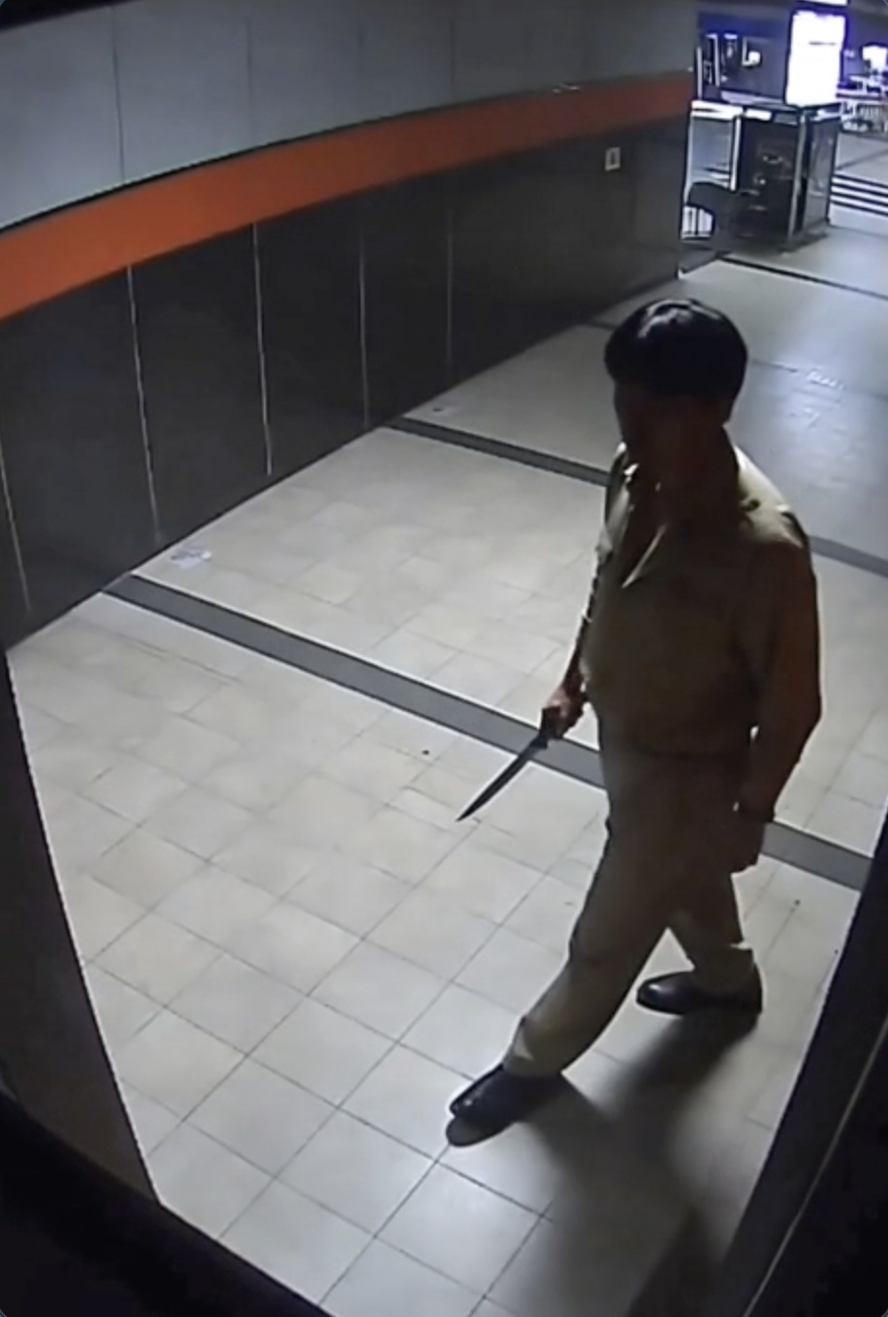knife: (456, 720, 563, 826)
person: (584, 327, 798, 1014)
